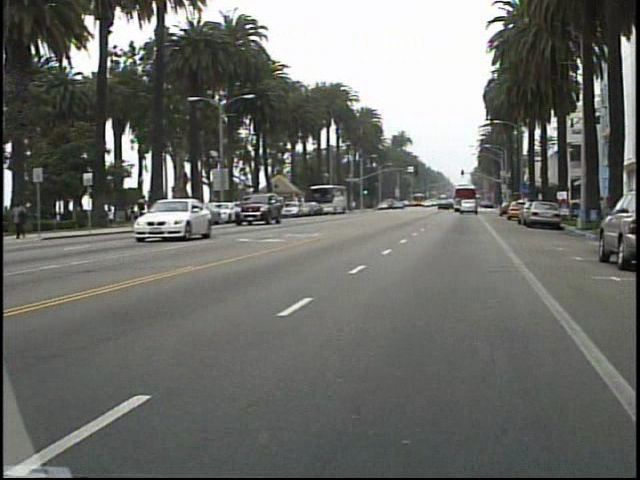person: (17, 195, 39, 240), (140, 191, 159, 225)
